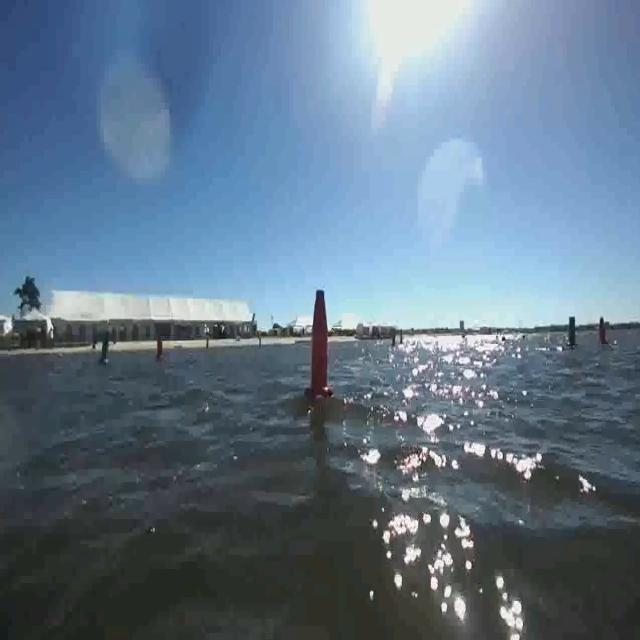green-column-buoy: (98, 330, 113, 367), (566, 316, 578, 349)
red-column-buoy: (306, 286, 334, 402), (595, 318, 606, 348), (156, 334, 167, 364)
